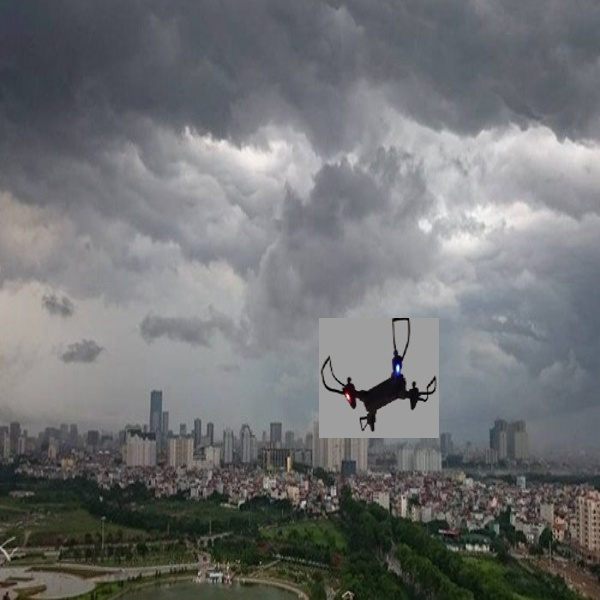drone: (318, 314, 437, 436)
